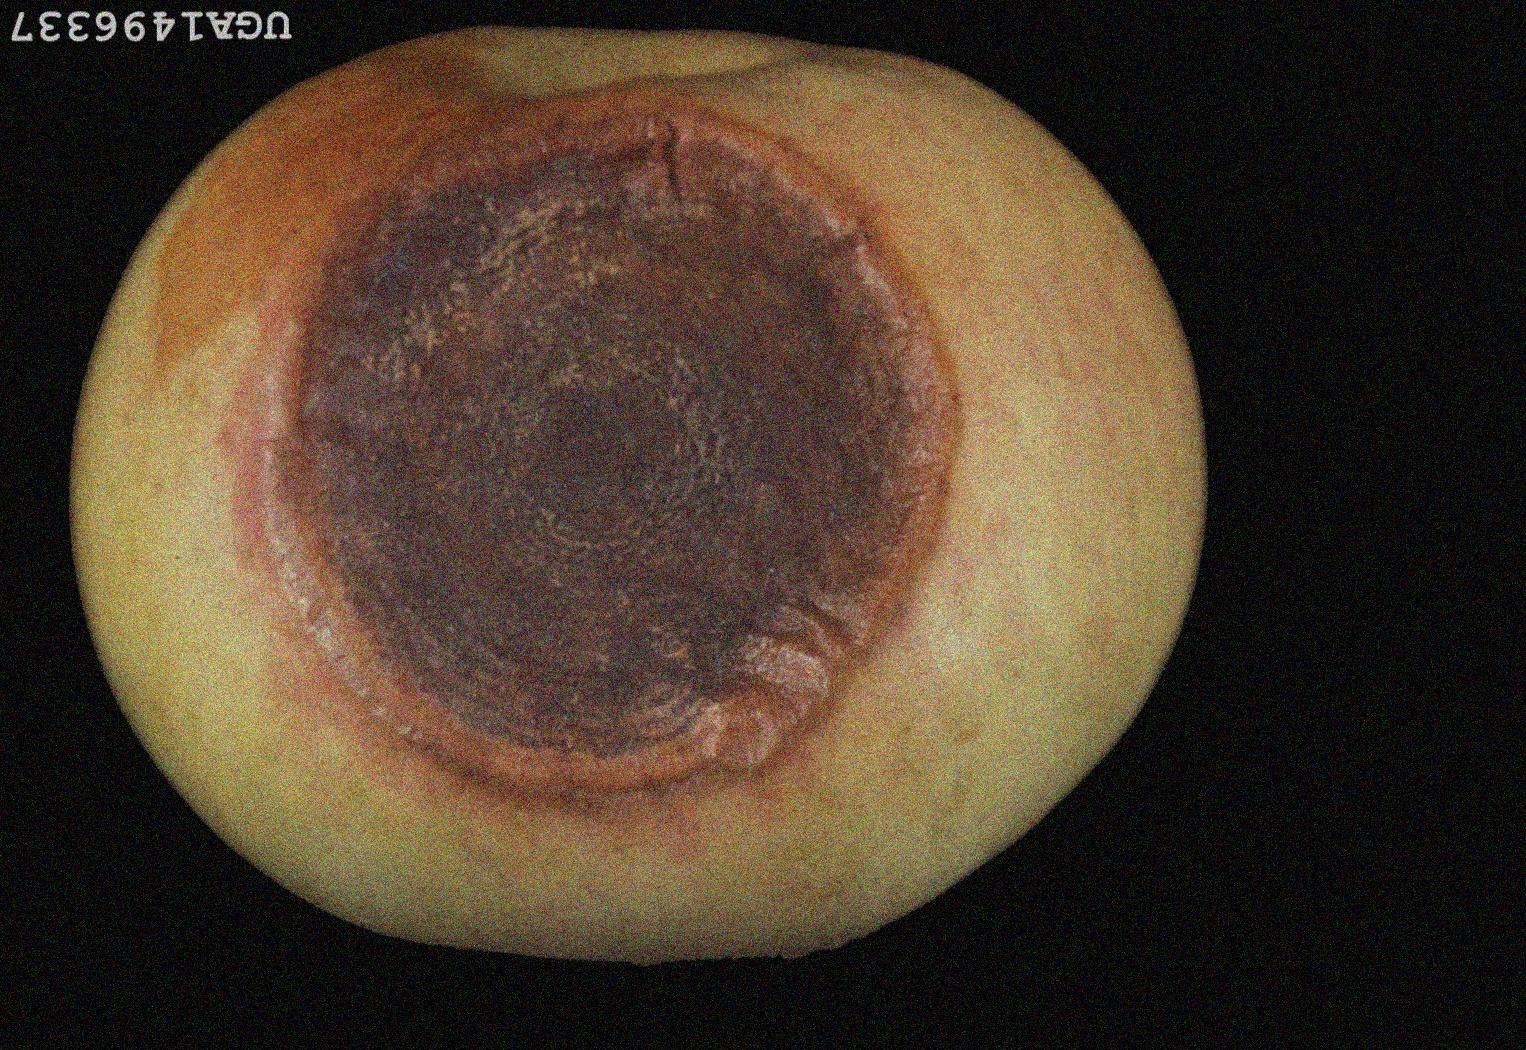rotten apple: (65, 21, 1218, 962)
